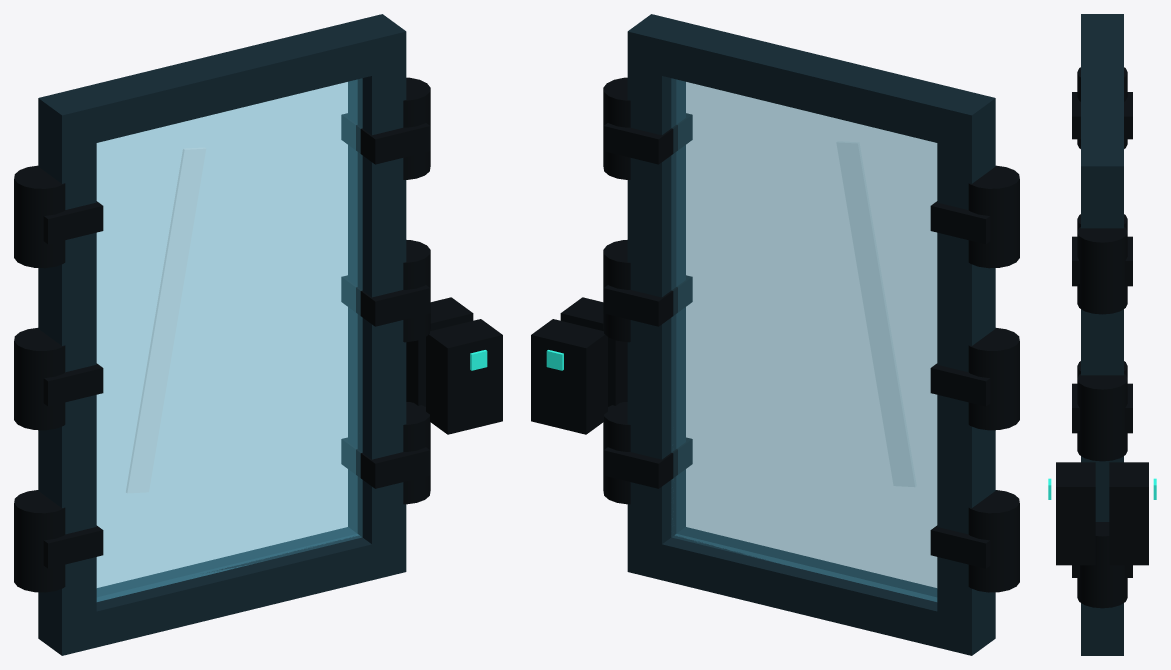
File: screen_window_1pan_1level.glb
3 renders of one model, left to right at view 1: azimuth 30°, elevation 25°; view 2: azimuth 150°, elevation 25°; view 3: azimuth 270°, elevation 25°, orthographic. The views are drawn at different scales.
Visible parts, largest first — view 1: Glass_Pane_1, Frame_Right, Frame_Top, Frame_Bottom, Frame_Left, Reflection_Stripe_1, Control_Front_Box, Hinge_Left_0.2, Hinge_Left_0.5, Hinge_Left_0.8, Hinge_Brace_1_0.5, Hinge_Brace_1_0.8 (+8 smaller); view 2: Glass_Pane_1, Frame_Right, Frame_Top, Frame_Bottom, Frame_Left, Control_Back_Box, Hinge_Left_0.2, Hinge_Left_0.5, Hinge_Left_0.8, Hinge_Brace_1_0.5, Hinge_Brace_1_0.8, Hinge_Brace_1_0.2 (+7 smaller); view 3: Frame_Top, Frame_Right, Control_Front_Box, Control_Back_Box, Hinge_Right_0.8, Hinge_Right_0.5, Hinge_Right_0.2, Frame_Bottom, Hinge_Brace_-1_0.8, Hinge_Brace_1_0.5, Hinge_Brace_1_0.8, Hinge_Left_0.8 (+1 smaller).
Boxes of the visible parts, x1,y1,x2,y2 form: Glass_Pane_1: (96,78,362,601); Frame_Right: (348,67,406,544); Frame_Top: (38,14,406,151); Frame_Bottom: (38,527,406,655); Frame_Left: (38,134,96,619); Reflection_Stripe_1: (126,148,205,492); Control_Front_Box: (426,319,502,434); Hinge_Left_0.2: (14,490,65,592); Hinge_Left_0.5: (14,328,65,430); Hinge_Left_0.8: (14,165,65,268); Hinge_Brace_1_0.5: (341,275,430,326); Hinge_Brace_1_0.8: (341,113,430,164); Glass_Pane_1: (671,78,937,601); Frame_Right: (627,67,685,544); Frame_Top: (627,14,995,151); Frame_Bottom: (627,527,995,655); Frame_Left: (937,134,995,619); Control_Back_Box: (531,319,607,434); Hinge_Left_0.2: (968,490,1019,592); Hinge_Left_0.5: (968,328,1019,430); Hinge_Left_0.8: (968,165,1019,268); Hinge_Brace_1_0.5: (603,275,692,326); Hinge_Brace_1_0.8: (603,113,692,164); Hinge_Brace_1_0.2: (603,437,692,488); Frame_Top: (1081,14,1123,198); Frame_Right: (1081,199,1123,623); Control_Front_Box: (1056,462,1095,565); Control_Back_Box: (1109,462,1148,565); Hinge_Right_0.8: (1077,227,1127,314); Hinge_Right_0.5: (1077,374,1127,461); Hinge_Right_0.2: (1077,522,1127,608); Frame_Bottom: (1081,623,1123,655); Hinge_Brace_-1_0.8: (1072,92,1132,139); Hinge_Brace_1_0.5: (1072,383,1132,430); Hinge_Brace_1_0.8: (1072,236,1132,283); Hinge_Left_0.8: (1077,67,1127,148).
Bounding box in the file's own units: 1.33 × 1.5 × 0.3008.
